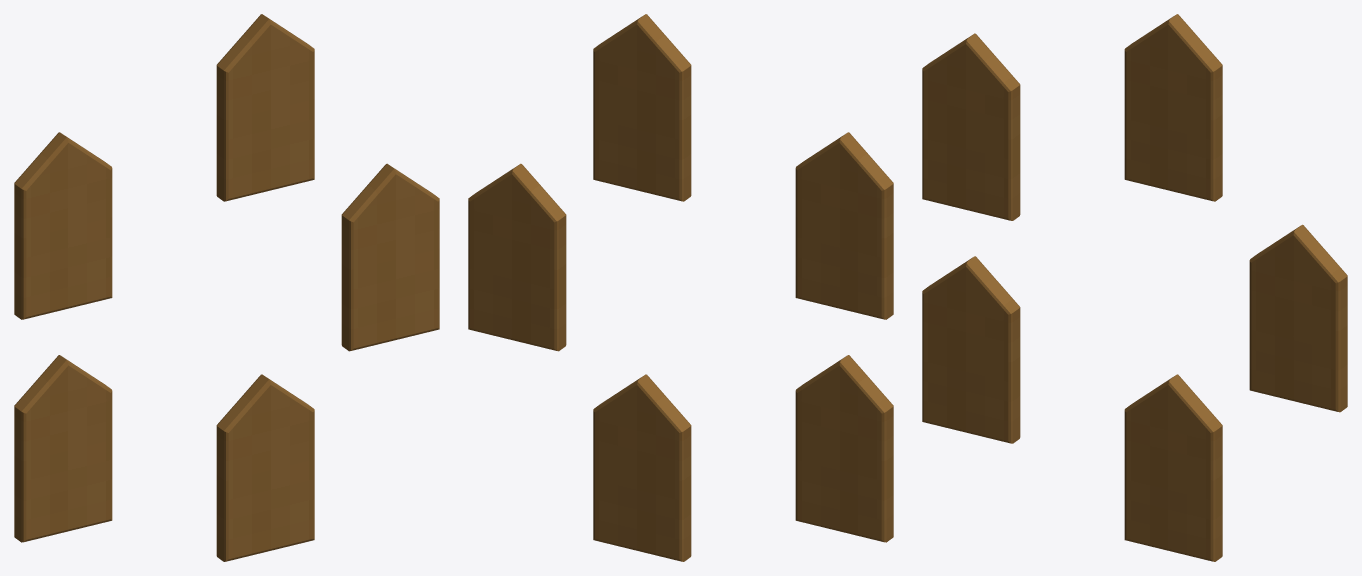
File: talisman-array.glb
3 views of the same model, side by side, from view 1: azimuth 30°, elevation 25°; view 2: azimuth 150°, elevation 25°; view 3: azimuth 330°, elevation 25° (orthographic).
Visible parts, largest first — view 1: brass.0, brass.2, brass.4, brass.1, brass.3; view 2: brass.0, brass.2, brass.4, brass.1, brass.3; view 3: brass.1, brass.2, brass.4, brass.0, brass.3.
Boxes of the visible parts, x1,y1,x2,y2 form: brass.0: (341,163,439,351); brass.2: (14,132,112,319); brass.4: (216,374,314,561); brass.1: (216,14,314,201); brass.3: (14,355,112,542); brass.0: (468,163,566,351); brass.2: (795,132,893,319); brass.4: (593,374,691,561); brass.1: (593,14,691,201); brass.3: (795,355,893,542); brass.1: (1124,14,1222,201); brass.2: (922,33,1020,220); brass.4: (1124,374,1222,561); brass.0: (1249,224,1347,412); brass.3: (922,256,1020,443).
Bounding box in the file's own units: 0.3464 × 0.4211 × 0.015.
1 material, 1 textured.
